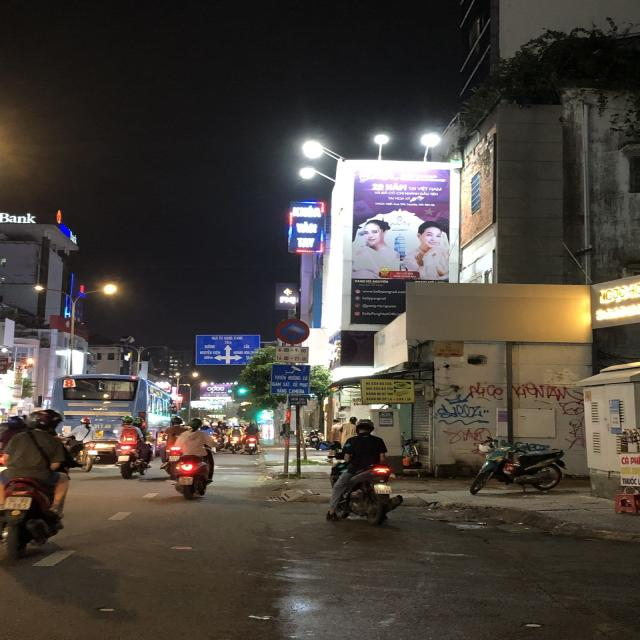Bien bao cam dung xe va do xe: (273, 315, 315, 346)
